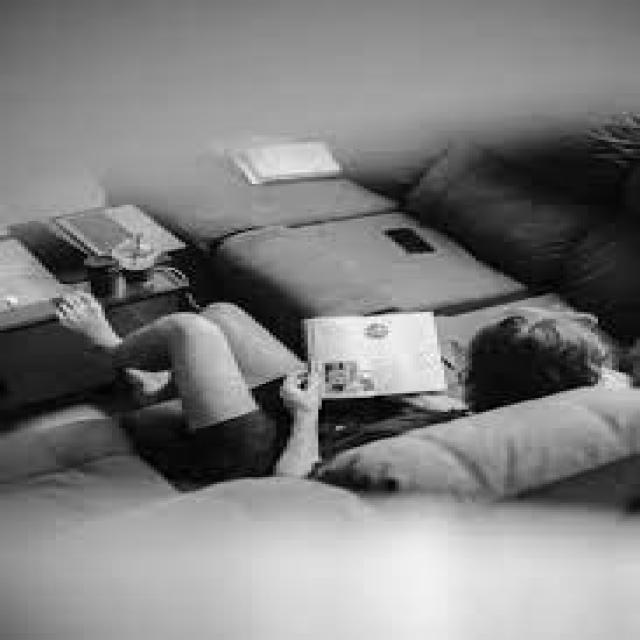No gun_phone: (386, 226, 438, 260)
